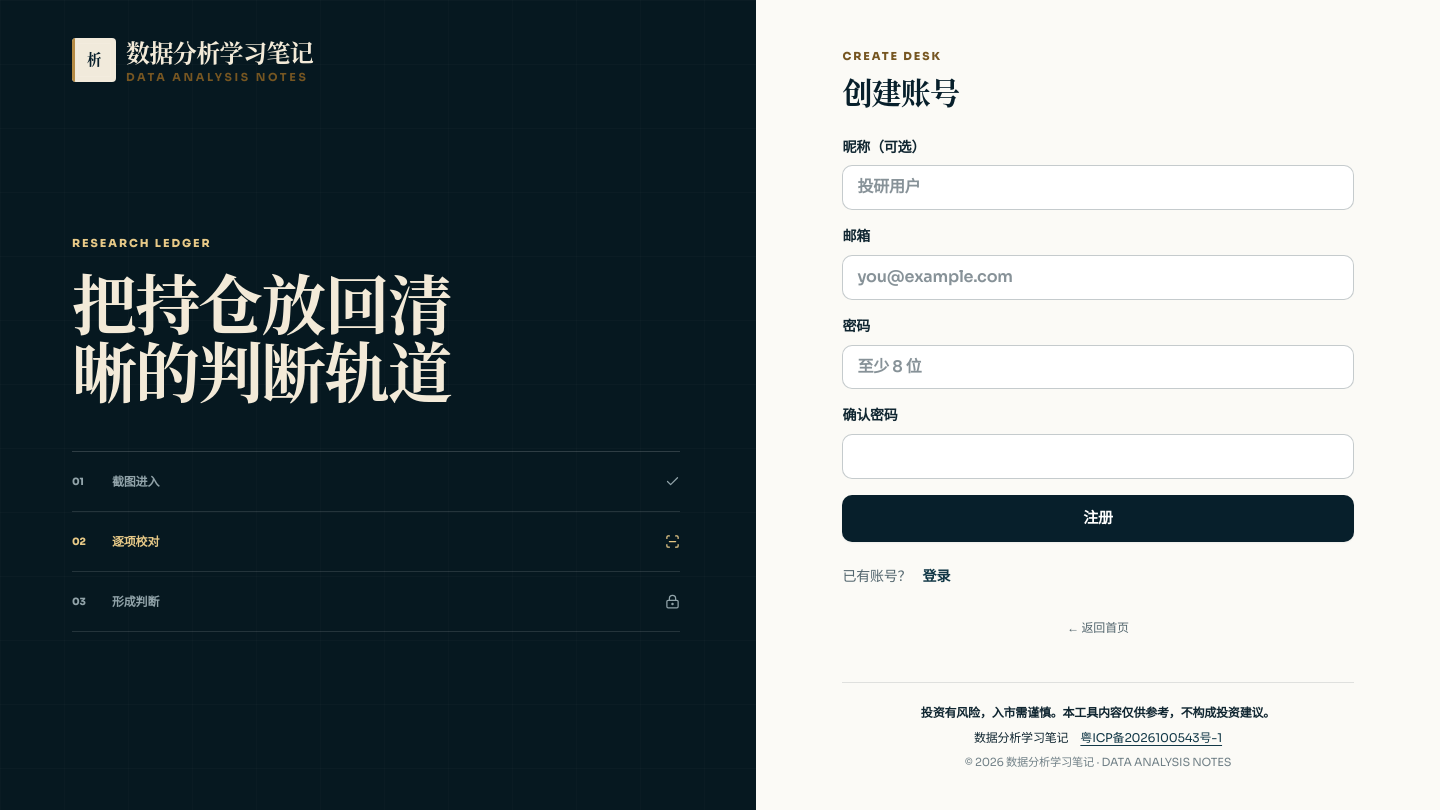
it: authentication pages › keeps a password mismatch local and does not submit registration
The image size is (1440, 810).
Step 1. Type "user@example.com" into the field labelled "邮箱" → (1098, 277), box [842,255,1354,300]
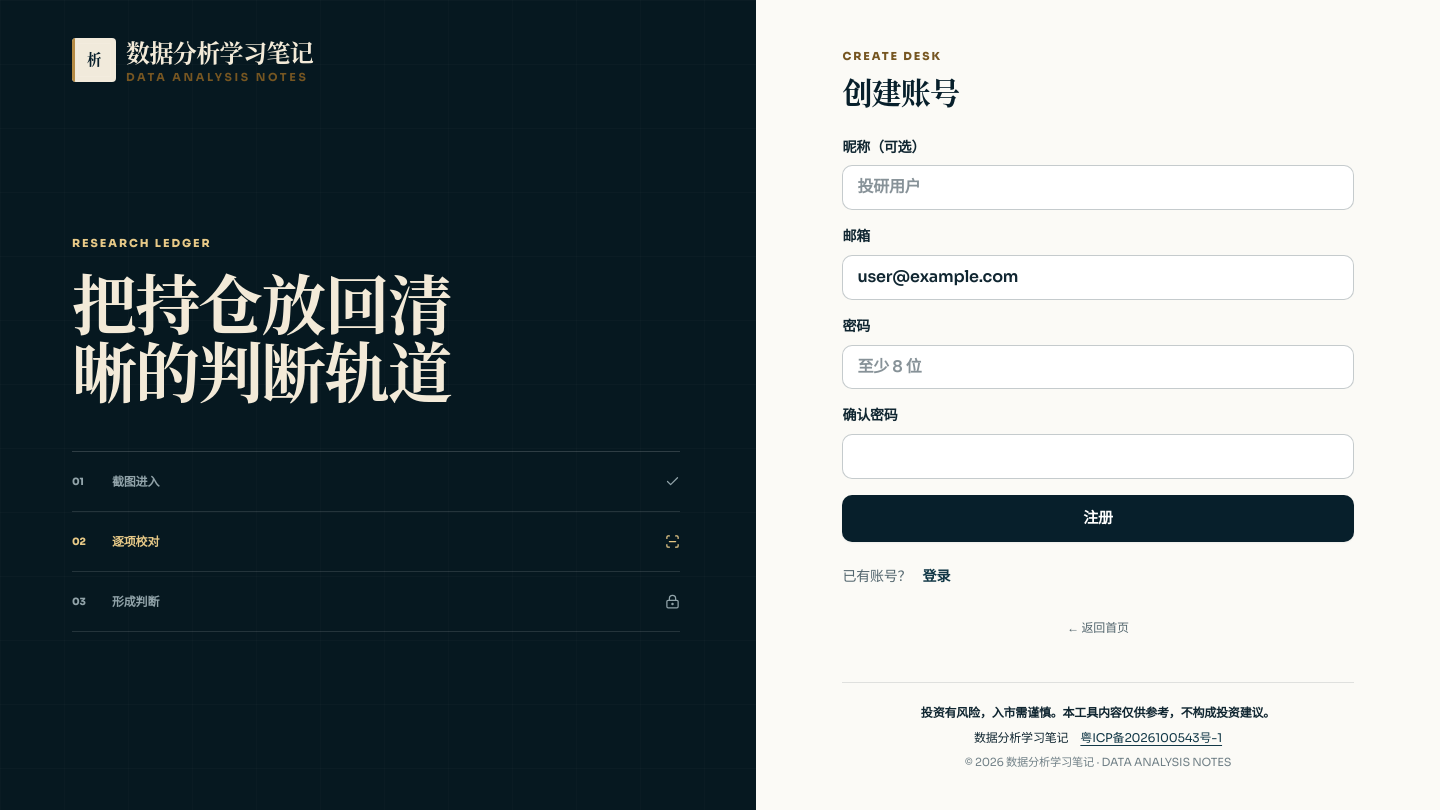
Step 2. Type "password-1" into the password field labelled "密码" → (1098, 367), box [842,345,1354,389]
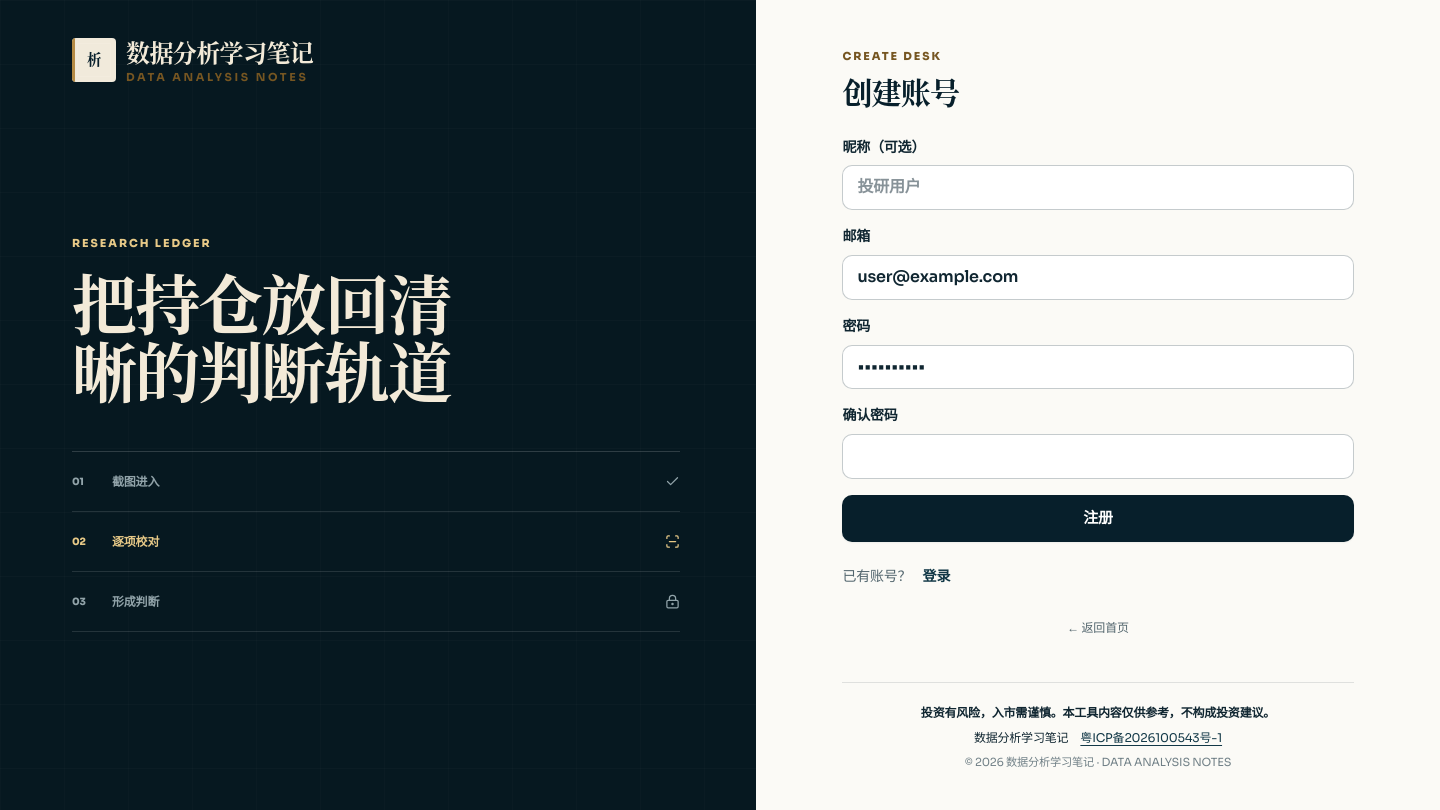
Step 3. Type "password-2" into the password field labelled "确认密码" → (1098, 457), box [842,434,1354,479]
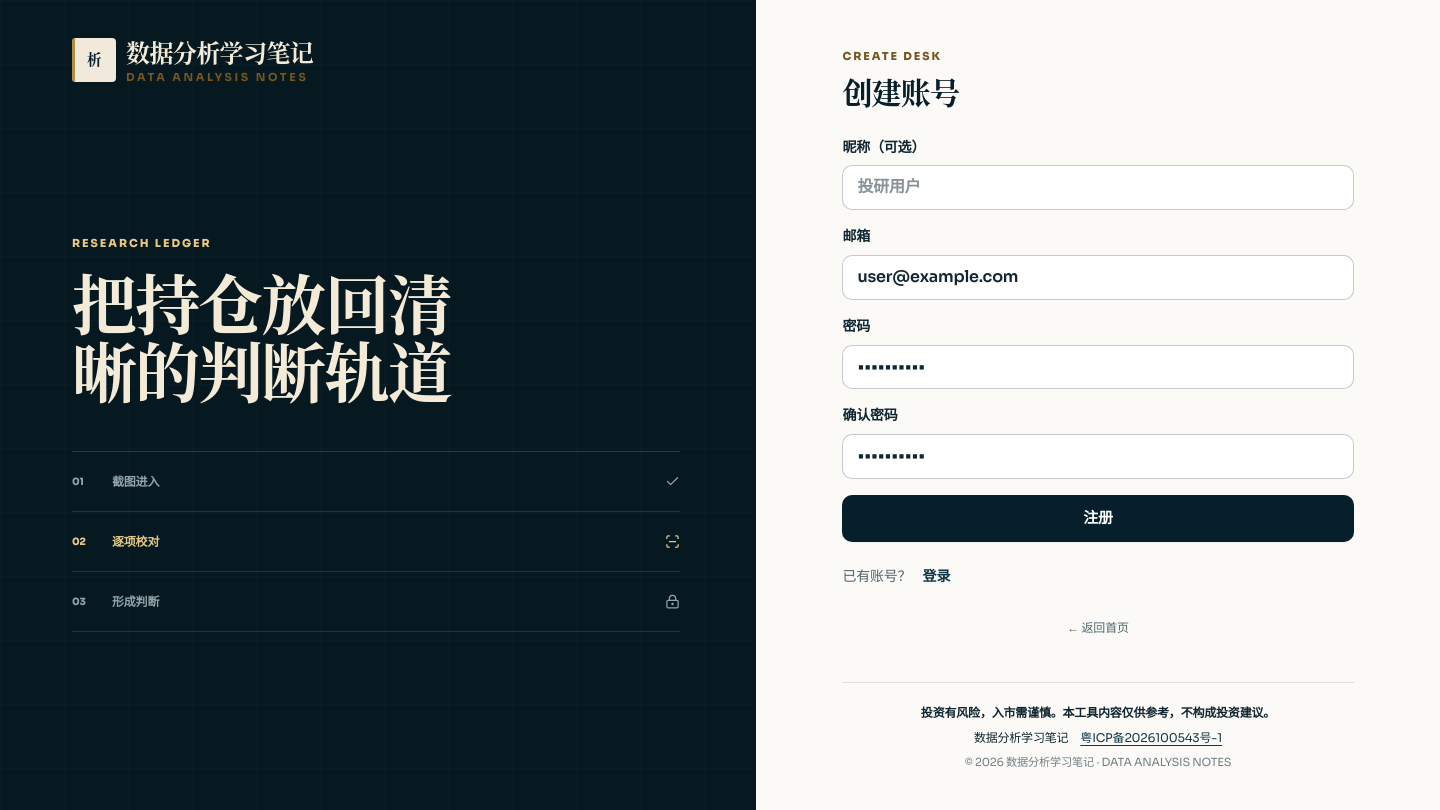
Step 4. Click the button "注册" → (1098, 518), box [842,495,1354,542]
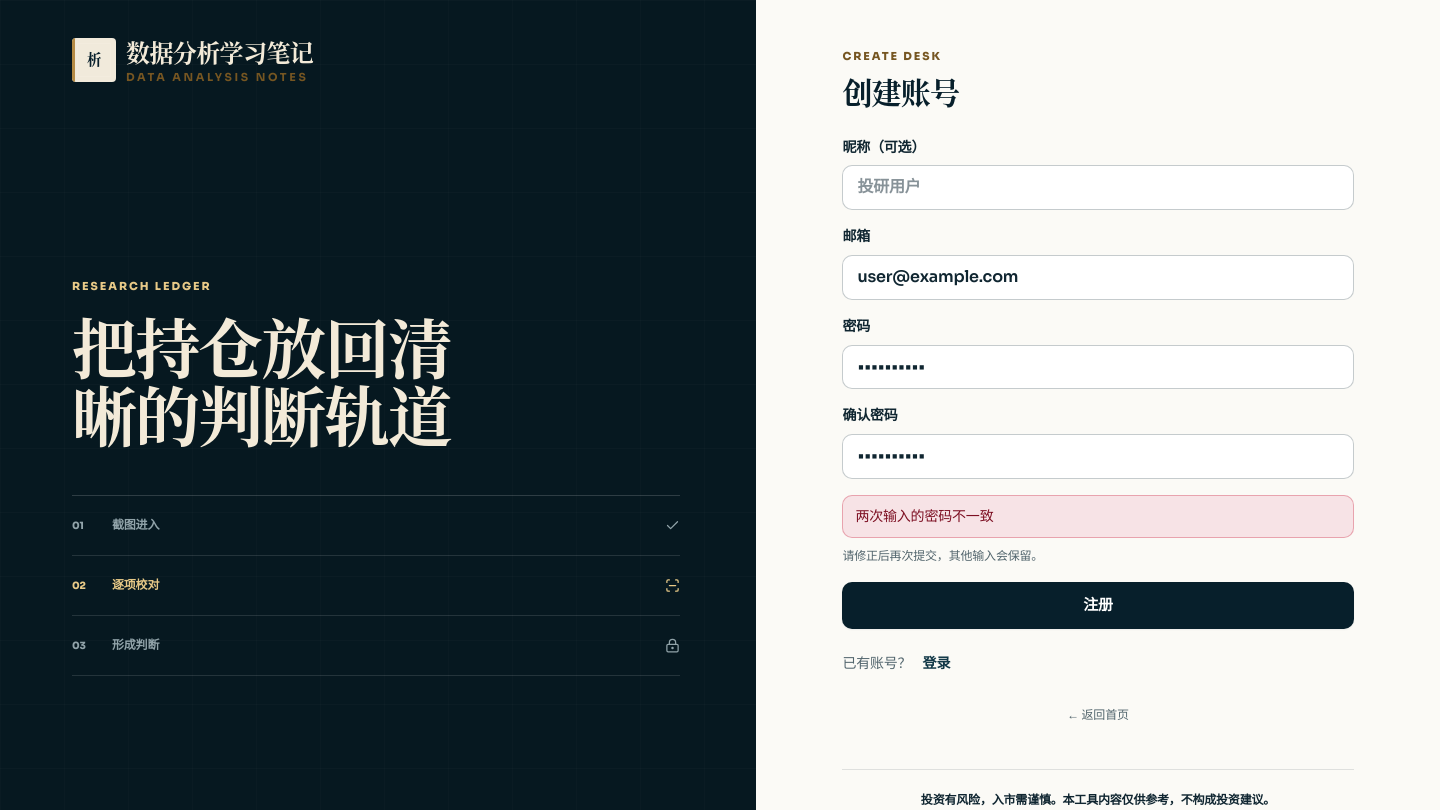
Now the message reads "两次输入的密码不一致", box [855,507,994,525]
